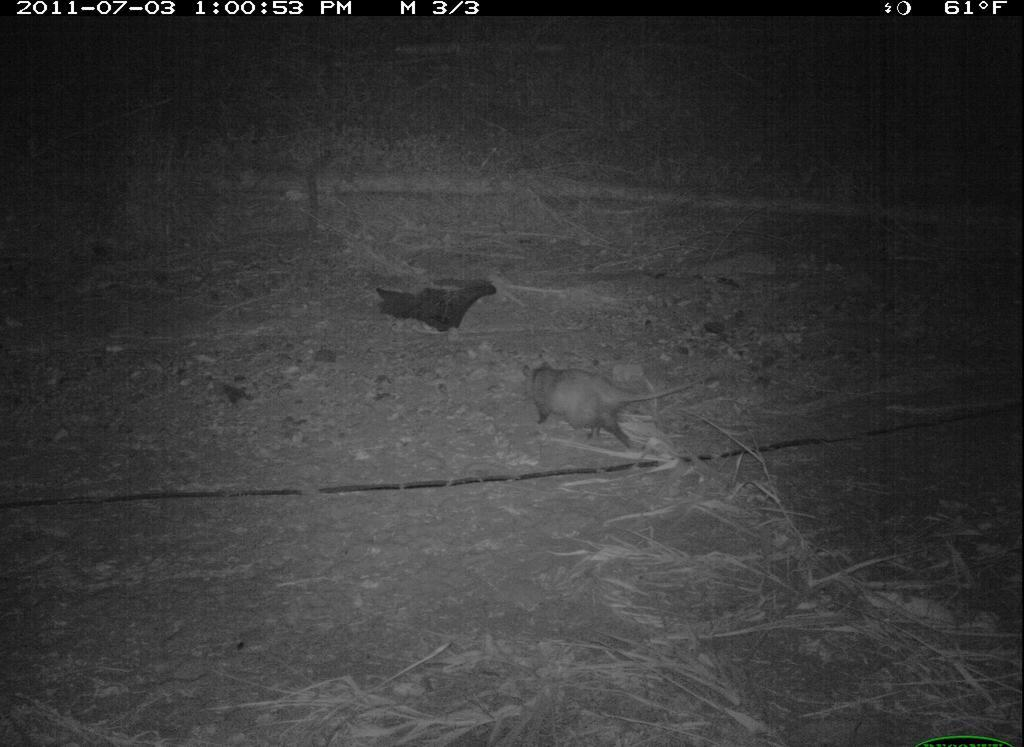opossum: (515, 341, 712, 463)
